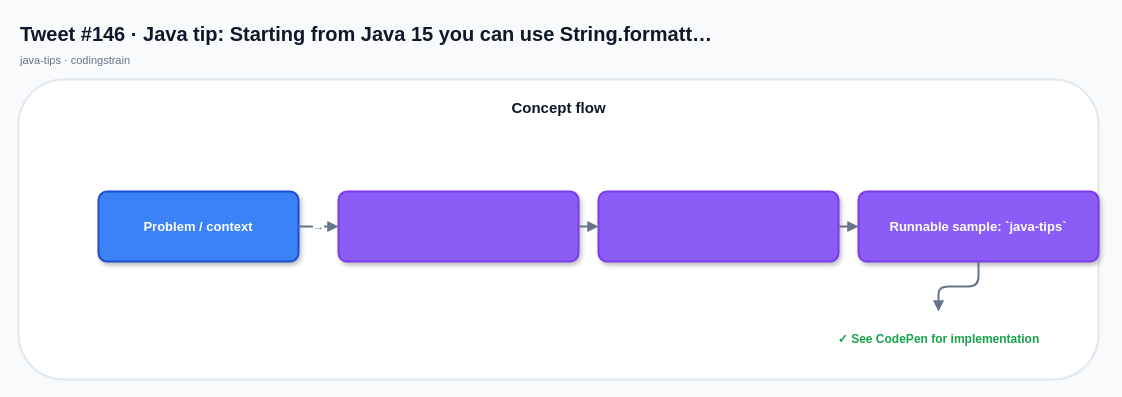
Some shapes in this 1122 by 397 pixel diagram are drawn without their labels. Here are the shapes that lost their labels. From the top down, the centre of each, then its label:
At [459,227]: "💡Java tip: Starting from Java 15 you can use String.formatted(...) for".
At [719,227]: "#Java".
